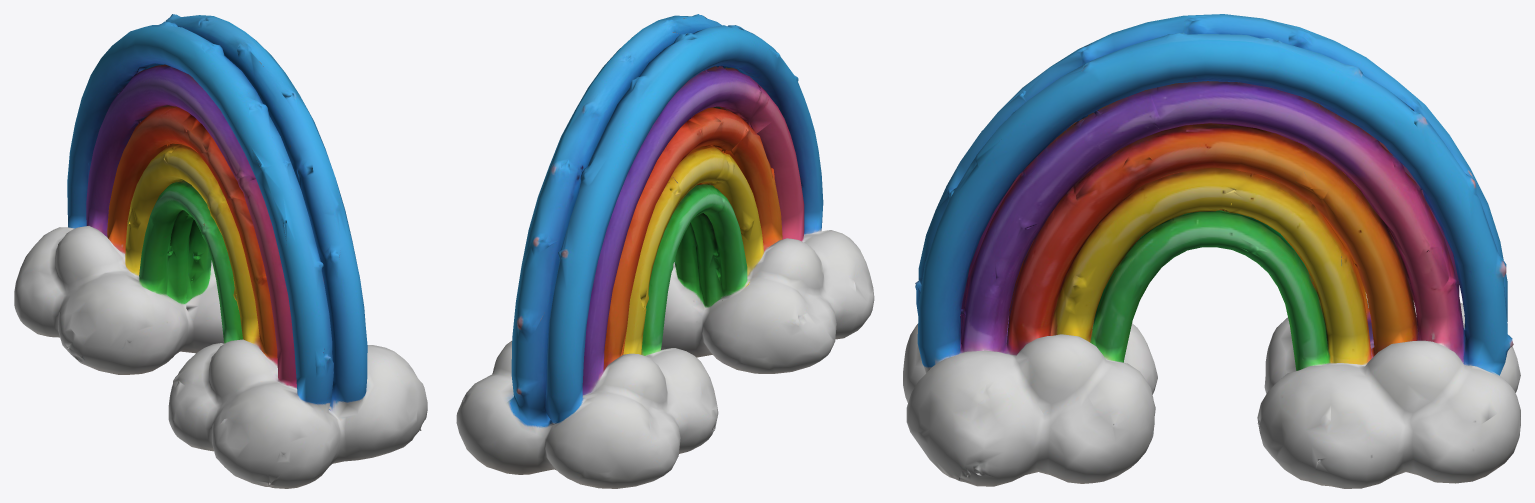
Rendered from r33-rainbow.glb.
3 renders of one model, left to right at view 1: azimuth 30°, elevation 25°; view 2: azimuth 150°, elevation 25°; view 3: azimuth 270°, elevation 25°, orthographic. The views are drawn at different scales.
Visible parts, largest first — view 1: tripo_node_4c7321b8-385c-4ff7-abca-40a1cbc8f1f3; view 2: tripo_node_4c7321b8-385c-4ff7-abca-40a1cbc8f1f3; view 3: tripo_node_4c7321b8-385c-4ff7-abca-40a1cbc8f1f3.
Part boxes in pixels (<box>): tripo_node_4c7321b8-385c-4ff7-abca-40a1cbc8f1f3: <box>14,14,427,488</box>; tripo_node_4c7321b8-385c-4ff7-abca-40a1cbc8f1f3: <box>456,14,874,488</box>; tripo_node_4c7321b8-385c-4ff7-abca-40a1cbc8f1f3: <box>903,14,1520,488</box>.
Bounding box in the file's own units: 0.4629 × 0.752 × 0.998.
1 material, 1 textured.
